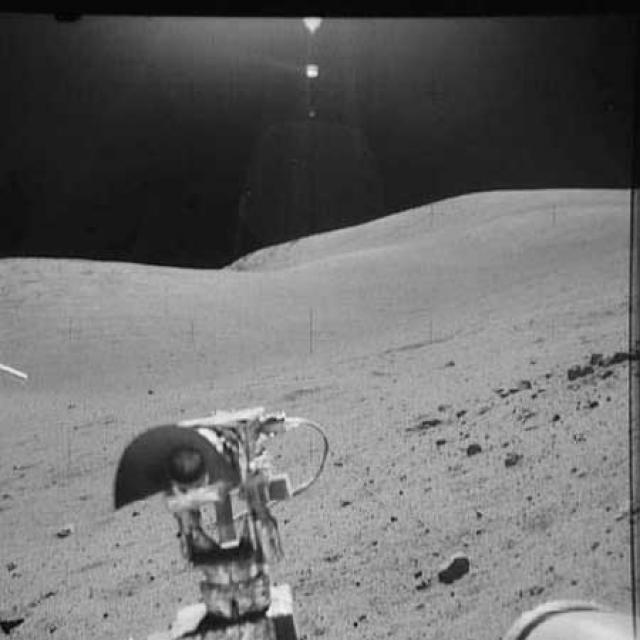artifact: (110, 405, 349, 639), (502, 588, 639, 638), (1, 358, 34, 389)
rock: (423, 541, 478, 585)
